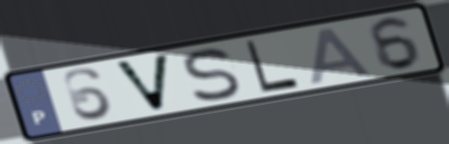6: (366, 14, 426, 72), (61, 66, 115, 124)
A: (308, 25, 377, 87)
L: (243, 38, 303, 95)
S: (181, 46, 244, 104)
V: (110, 51, 173, 114)
